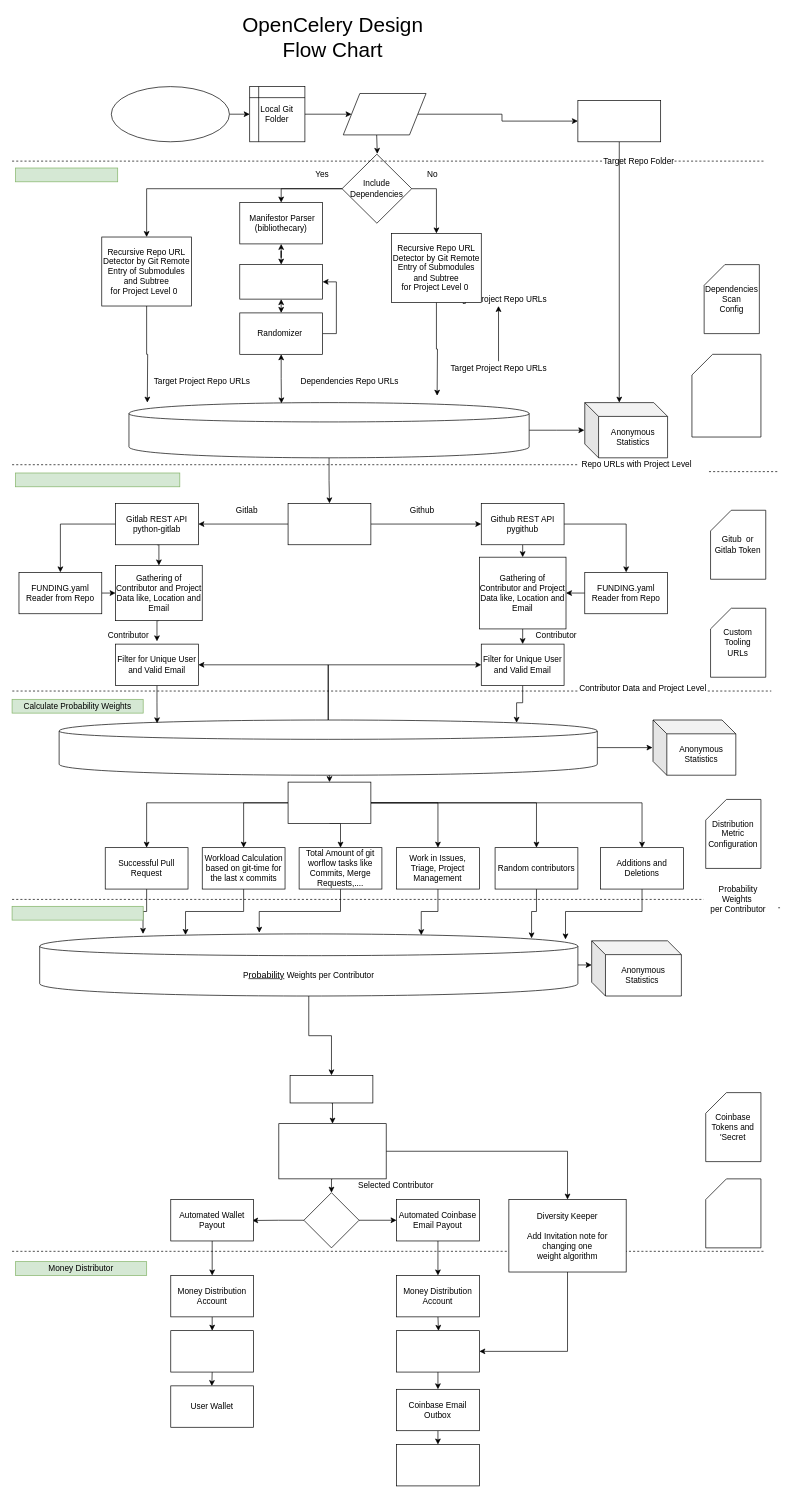
The diagram is 793 pixels wide and 1498 high, and some of its shapes have lost their labels. The shapes that lost their labels are listed below. From the top down, each one's centre as x and y in pixels, then its label:
At point 170,114: "CI/CD, Cron or Human".
At point 384,114: "Repo Parser".
At point 619,121: "CheckWallets with Token Wallet".
At point 66,174: "Find Official Repositories".
At point 281,281: "Libraries.io API for Dependency Tree Gathering".
At point 726,395: "Payment Configuration (FUNDING.yaml)".
At point 328,430: "Target Project Repo URL and Dependencies Repo URLs".
At point 97,479: "Gather Project and User Information".
At point 329,524: "Repository Platform Detection".
At point 327,747: "Contributor Data per Target Project Repo URL and Dependencies Repo URL".
At point 329,802: "Distribution Metric Configurator".
At point 77,913: "Payout".
At point 331,1089: "Credit Per User Calculation".
At point 332,1151: "Randomizer with Distribution based on the payment weights".
At point 331,1220: "Payment Methode".
At point 733,1213: "Payment Notes for Email".
At point 212,1351: "Coinbase Wallet".
At point 437,1351: "Email Notification".
At point 437,1465: "User Email Inbox".
